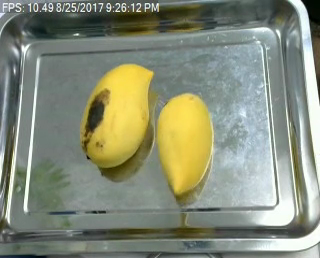Mango: (80, 62, 157, 170), (156, 90, 216, 192)
